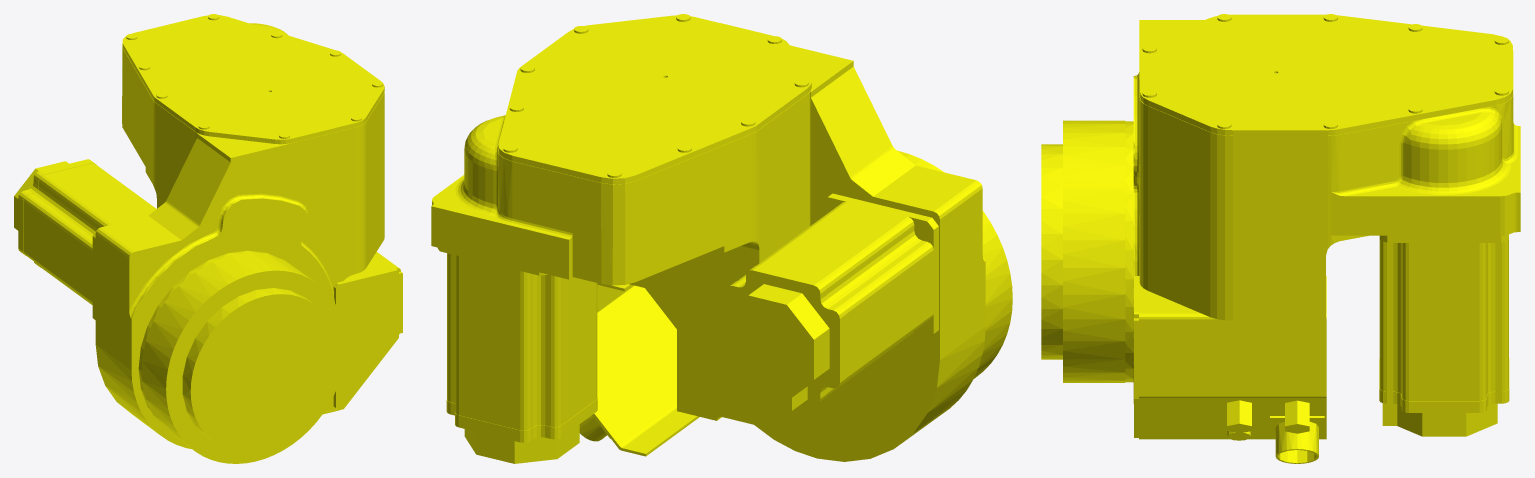
3 renders of one model, left to right at view 1: azimuth 30°, elevation 25°; view 2: azimuth 150°, elevation 25°; view 3: azimuth 270°, elevation 25°, orthographic. The views are drawn at different scales.
Parts seen in each view (by area): view 1: node; view 2: node; view 3: node.
Boxes of the visible parts, x1,y1,x2,y2 form: node: [14, 14, 402, 463]; node: [431, 14, 1012, 463]; node: [1041, 14, 1520, 463].
Size of the model in its own units: 293 by 284 by 333.
